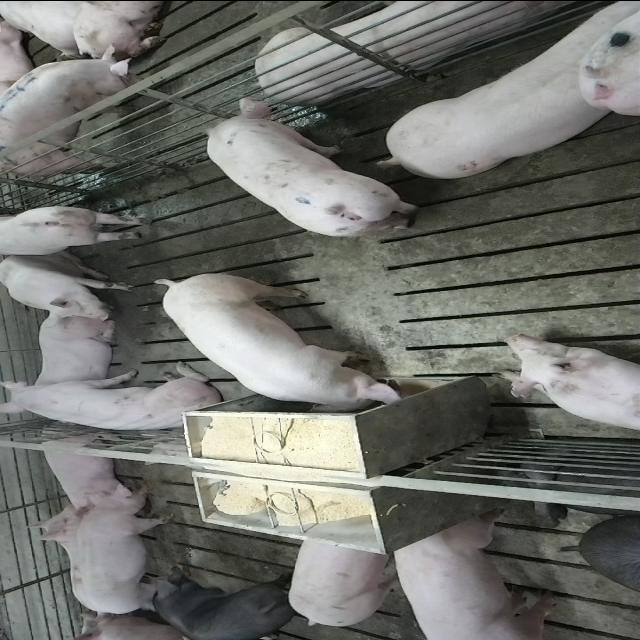Feeding: (154, 276, 406, 420)
Sitting: (4, 367, 229, 435), (1, 252, 138, 320)
Standing: (373, 6, 633, 182), (203, 94, 430, 236), (386, 514, 564, 638), (2, 44, 138, 176), (72, 482, 182, 618), (286, 532, 408, 630), (141, 568, 307, 637), (2, 203, 160, 257)
Sternal_lying: (257, 0, 587, 101), (500, 336, 640, 436), (32, 426, 132, 509), (32, 312, 122, 392), (25, 502, 105, 568)
